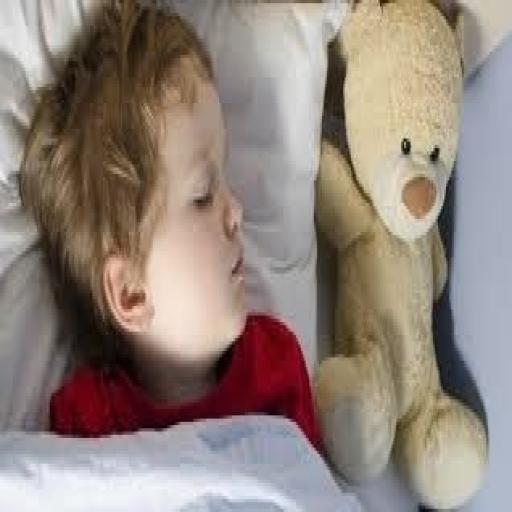sleeping: (18, 0, 325, 451)
